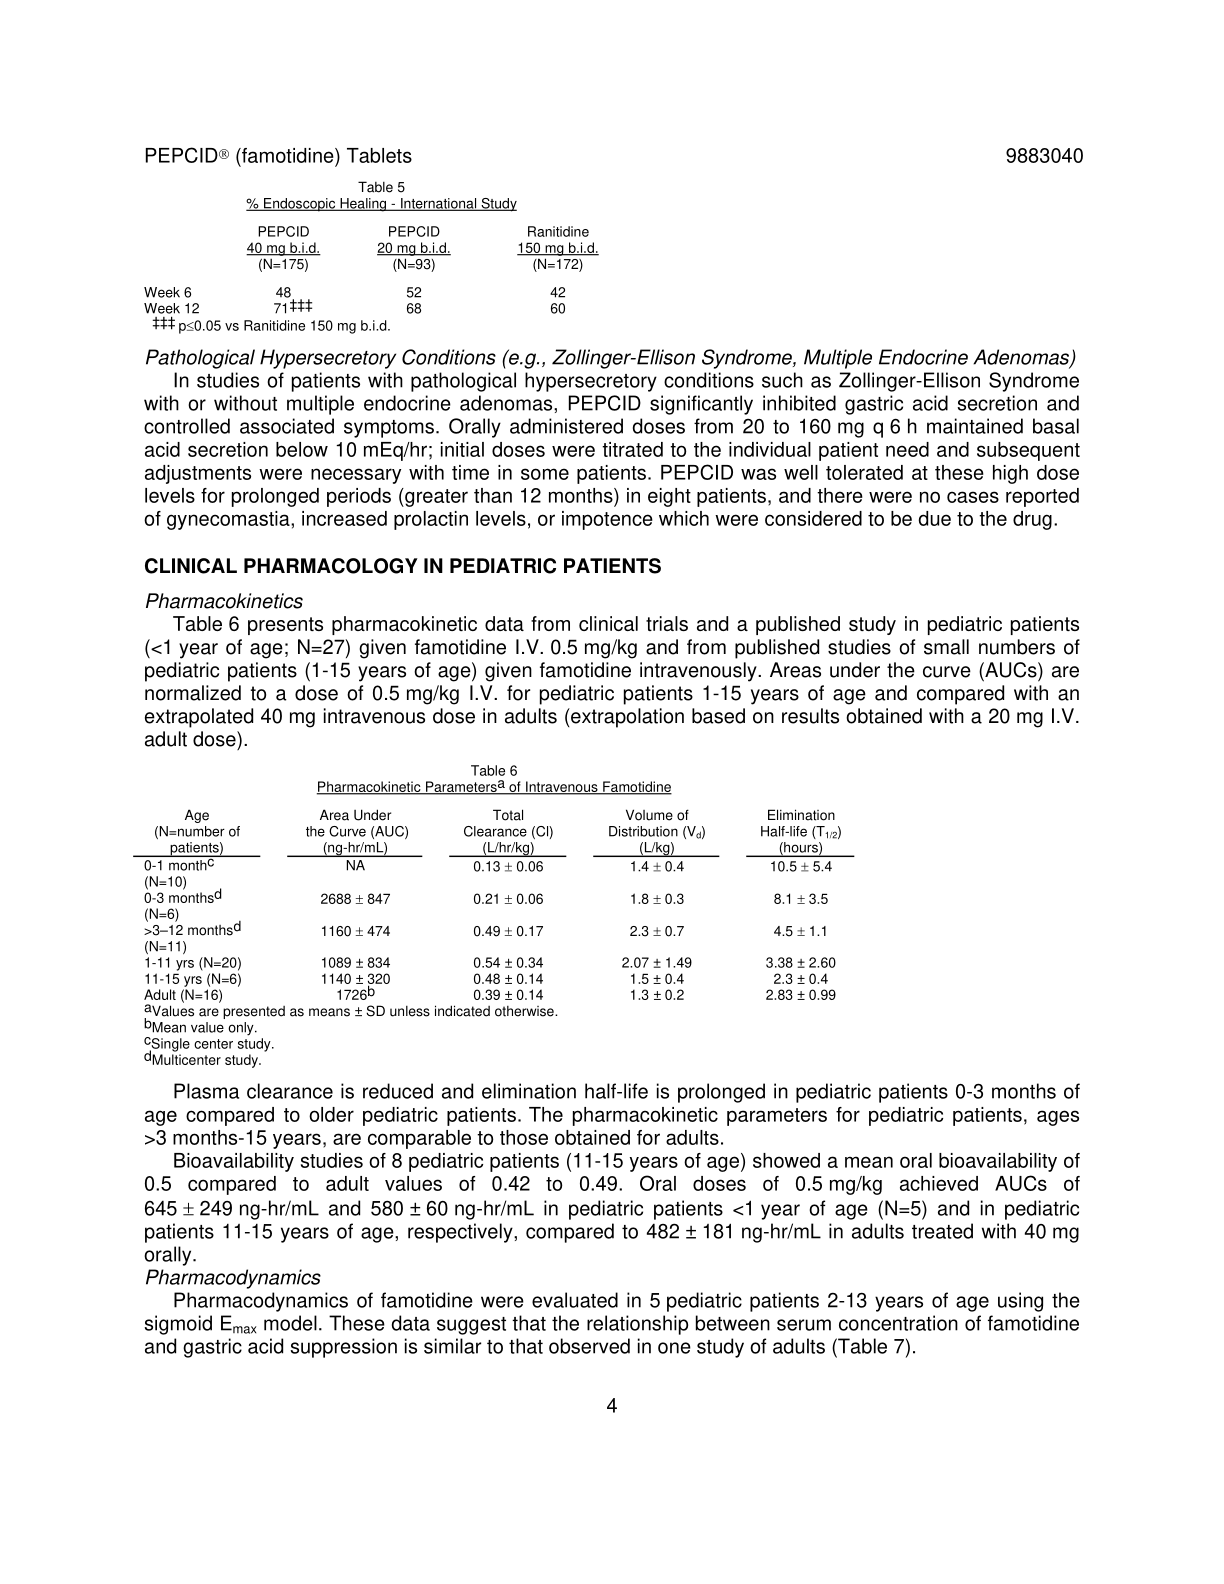nolines: (132, 804, 854, 1004), (139, 224, 598, 319)
